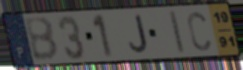1: (91, 13, 115, 59)
3: (58, 14, 86, 61)
B: (23, 16, 61, 62)
C: (186, 10, 212, 53)
I: (168, 9, 187, 55)
J: (128, 14, 150, 55)
